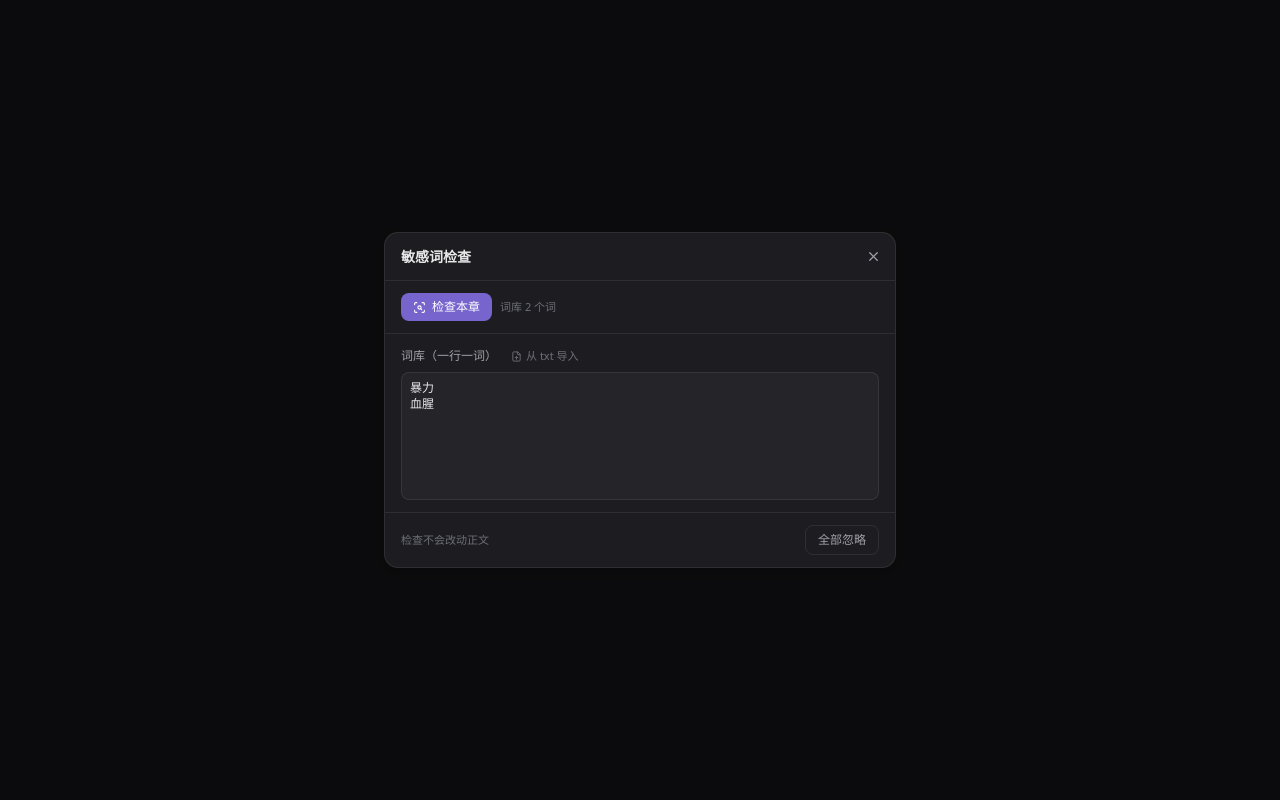
it: SensitiveDialog › 无命中时给出明确反馈
Expected: the text "词库 2 个词" is shown, [500,299,556,315]
Click the button "检查本章": point(446, 307) [401,293,492,321]
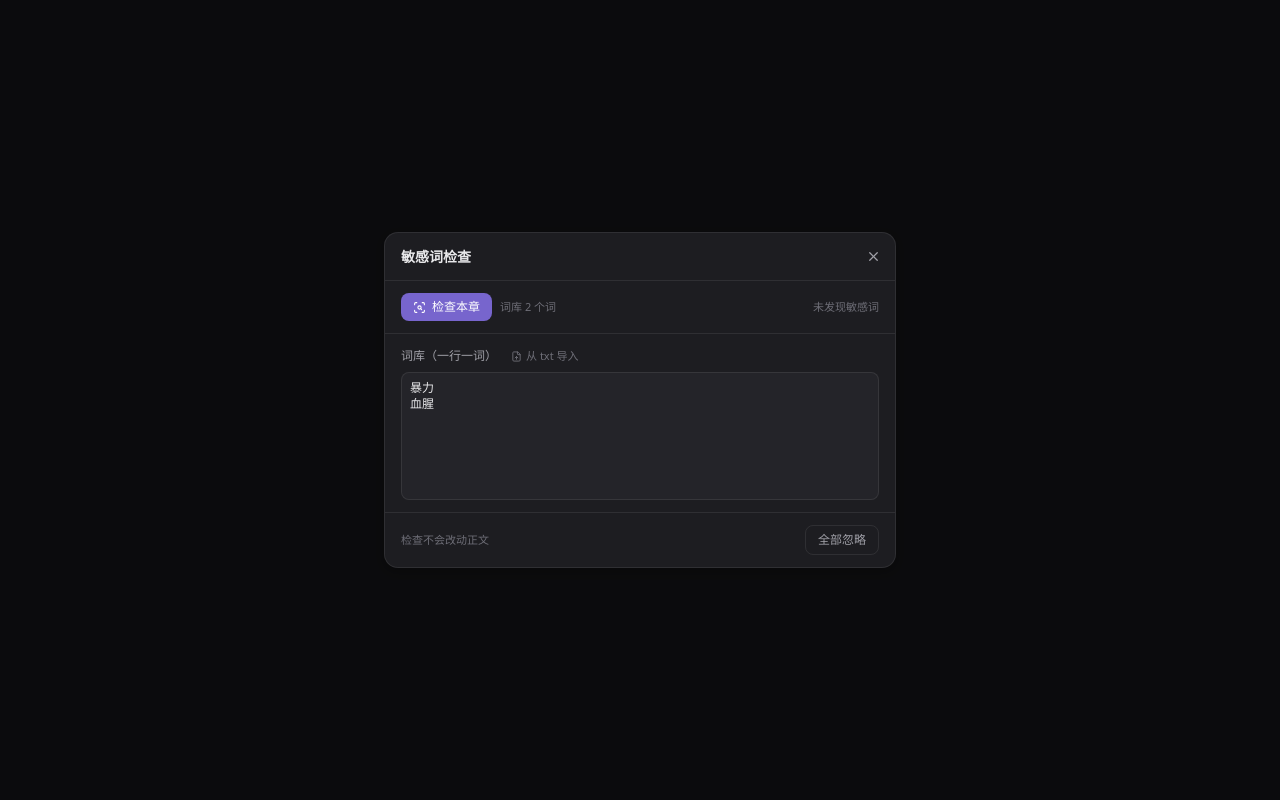
Now the text "未发现敏感词" is shown, box [813,299,879,315]
